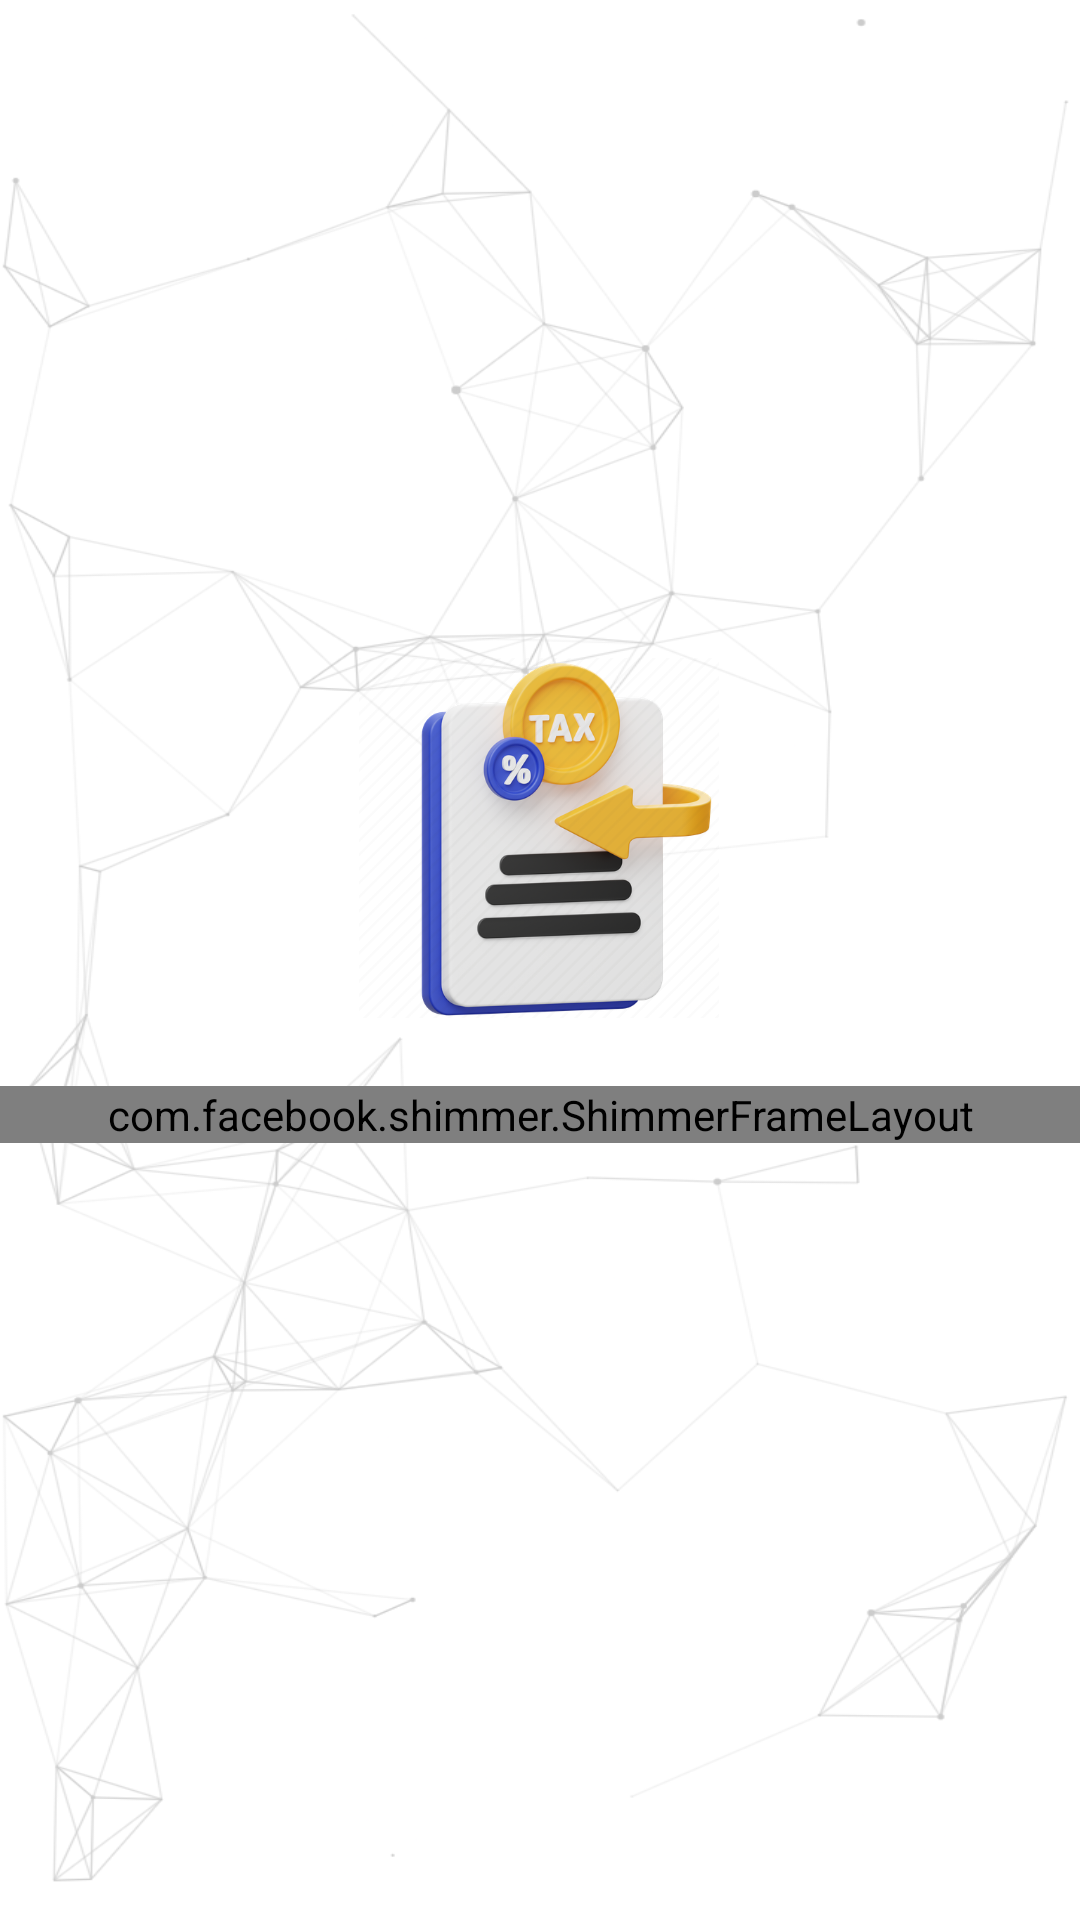

Where to tap for icons on this 1080w x 1920h app screen, as point (x, y):
smartinvoice: point (535, 837)
